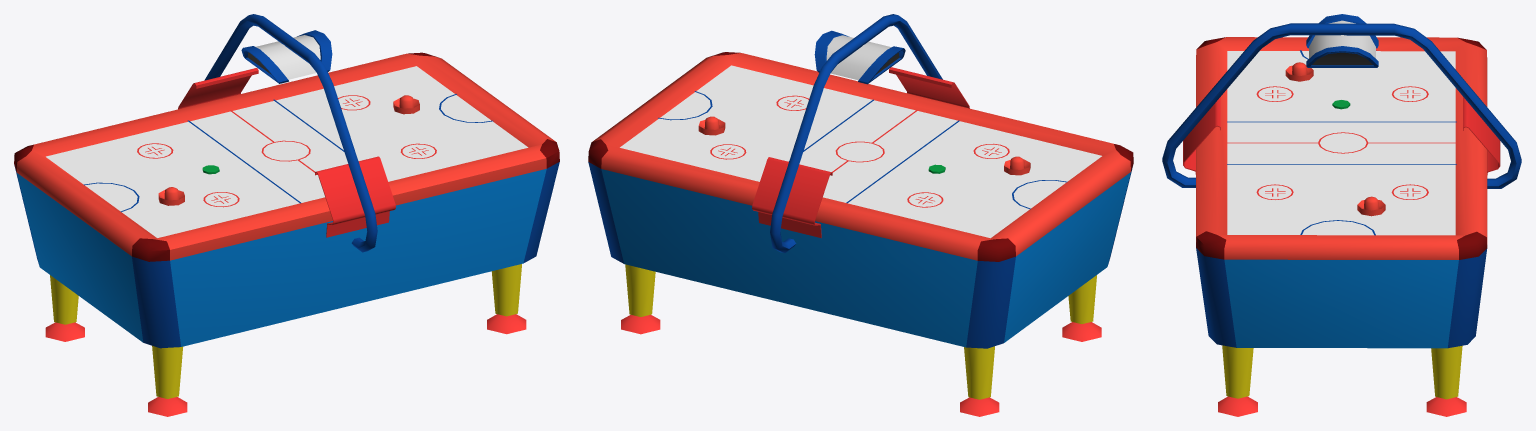
Rendered from air_hockey.glb.
The picture shows the model from 3 angles, left to right: view 1: azimuth 30°, elevation 25°; view 2: azimuth 150°, elevation 25°; view 3: azimuth 270°, elevation 25°; orthographic projection.
Parts seen in each view (by area): view 1: air_hockey_001; view 2: air_hockey_001; view 3: air_hockey_001.
Boxes of the visible parts, x1,y1,x2,y2 form: air_hockey_001: [14, 14, 559, 416]; air_hockey_001: [588, 14, 1133, 416]; air_hockey_001: [1162, 14, 1521, 416].
Size of the model in its own units: 2.06 by 1.35 by 1.48.
1 material, 1 textured.
